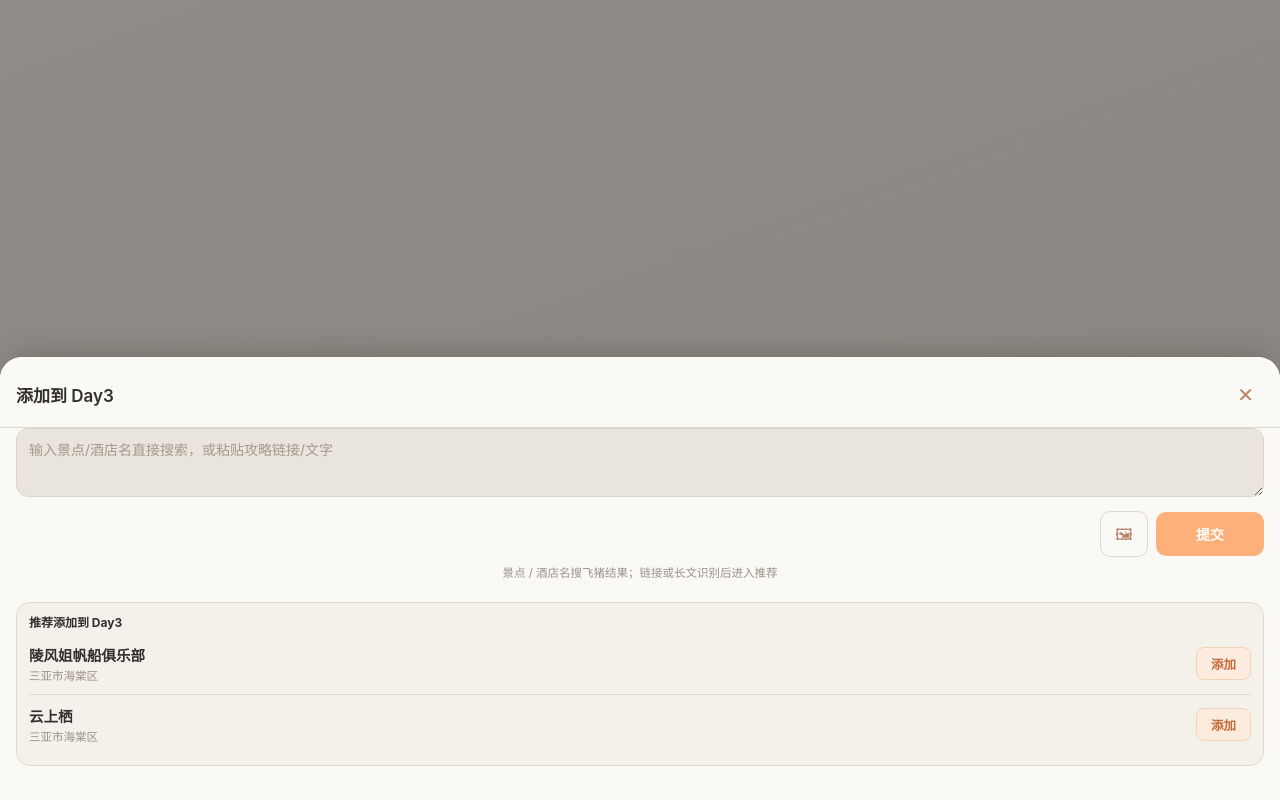
day 添加面板（任务 198） › day 面板长文提交仍存为攻略来源，按钮文案保持「提交」
Type "第一天先去后海村吃清补凉，然后去西岛看海，晚上回到亚龙湾住酒店，第二天去森林公园看云海。" into the text box with placeholder "输入景点/酒店名直接搜索，或粘贴攻略链接/文字" at (640, 462), box [16, 428, 1264, 497]
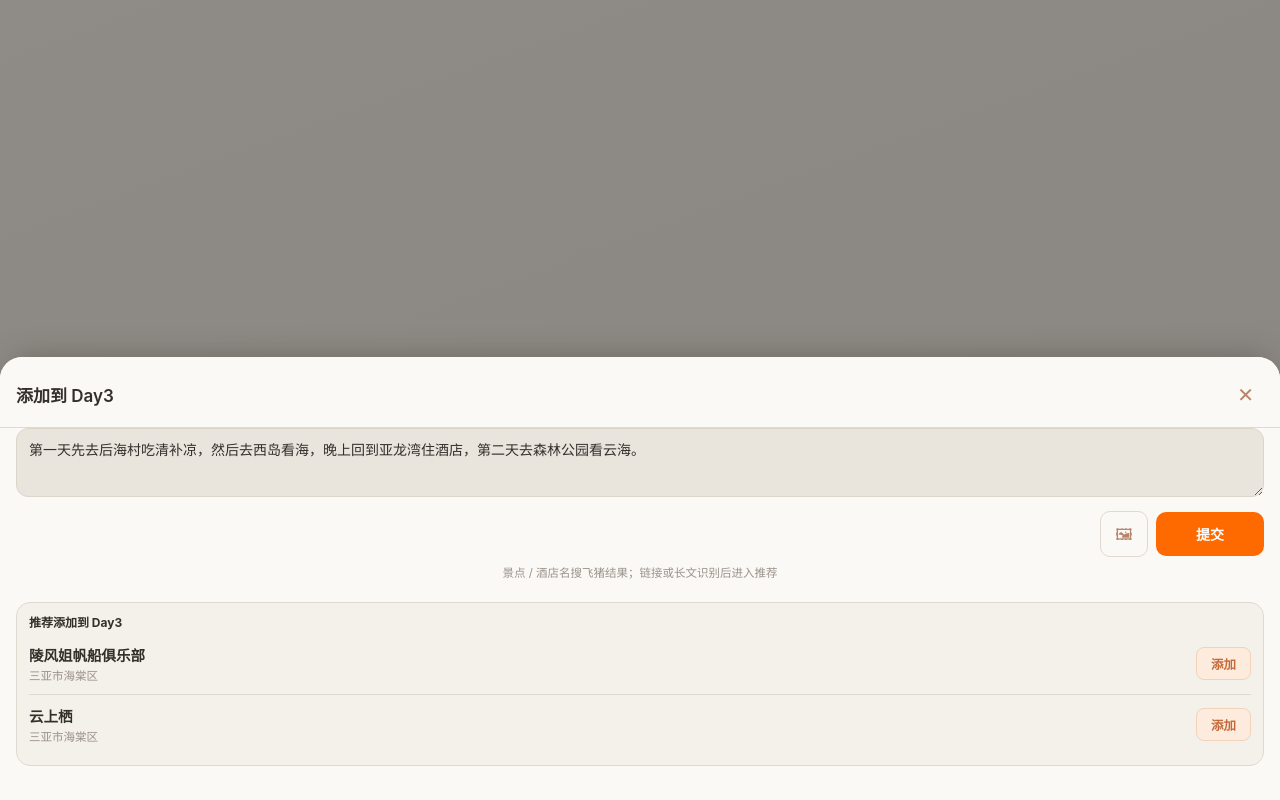
Click the button "提交" at (1210, 534), box [1156, 512, 1264, 556]
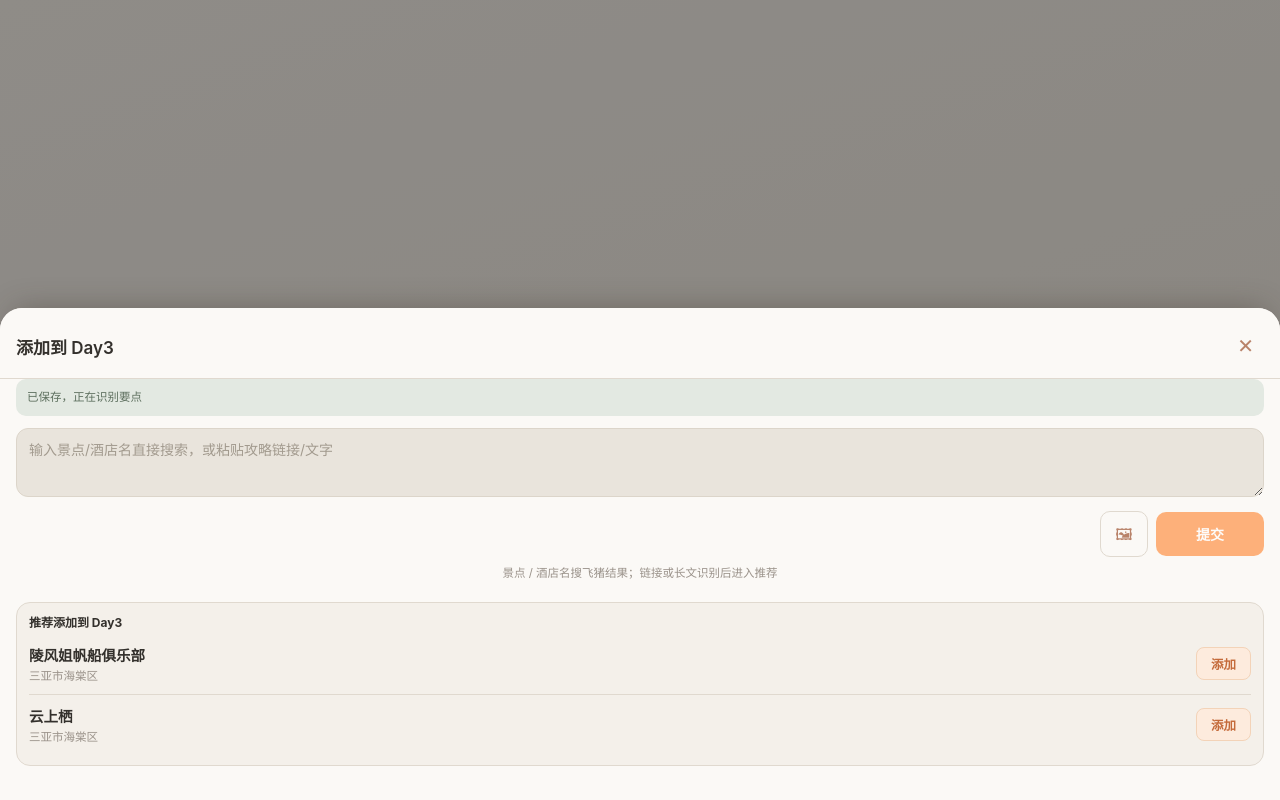
Check: the text "已保存，正在识别要点" is shown, box [16, 379, 1264, 416]
